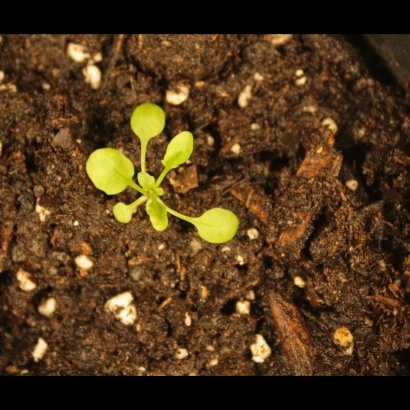leaf: (81, 143, 138, 198), (195, 203, 242, 252), (127, 96, 168, 145), (163, 129, 198, 175), (142, 195, 172, 244), (107, 198, 137, 231), (137, 170, 160, 193)
